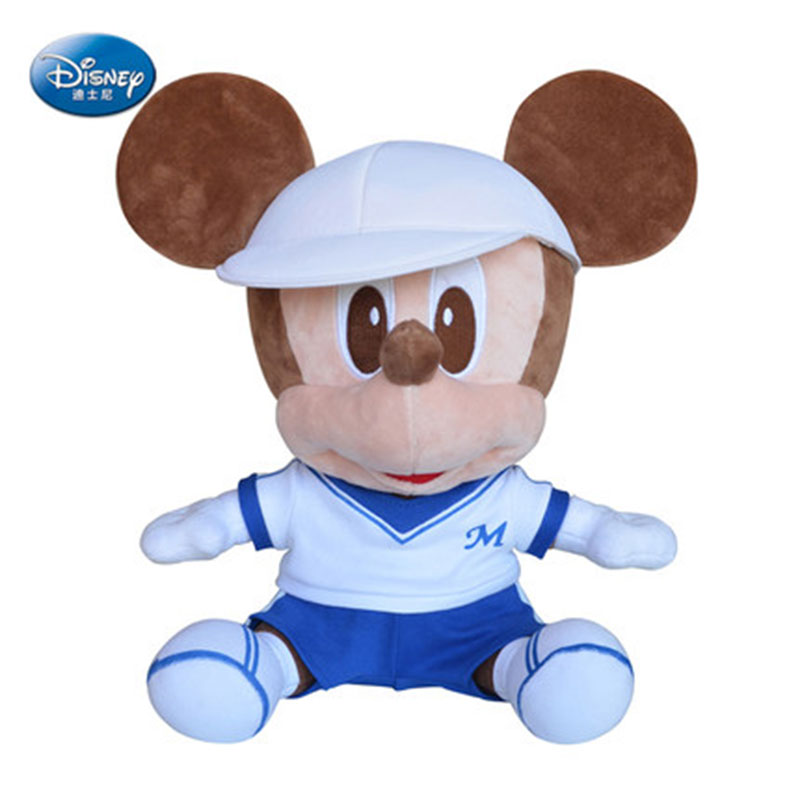Mickey: (109, 68, 705, 501)
